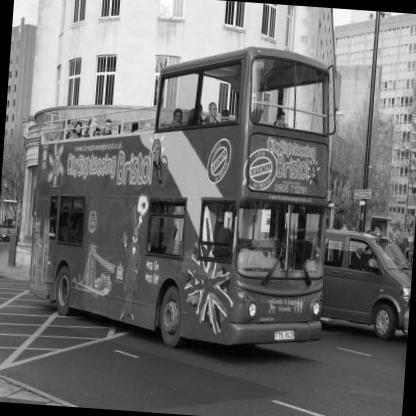bus: (12, 42, 355, 361)
